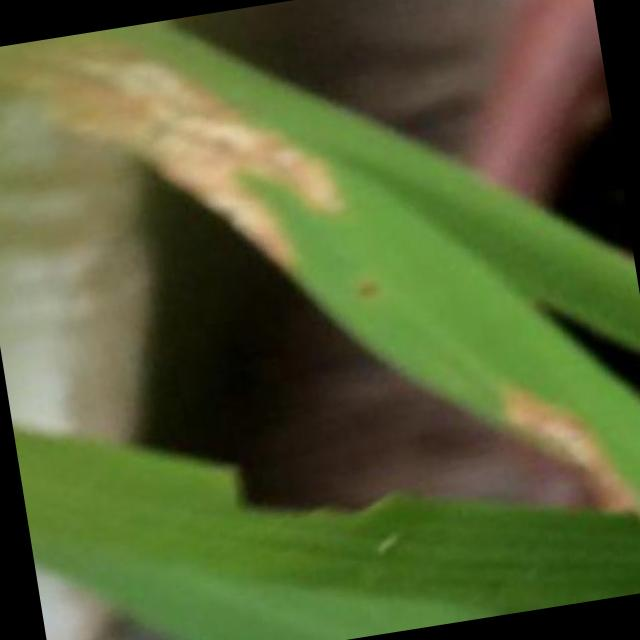Rice_Blast: (27, 17, 364, 304), (460, 333, 640, 537)
